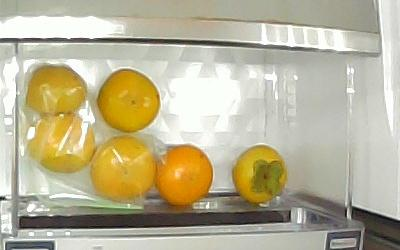persimmon: (97, 68, 164, 134), (154, 143, 213, 205), (233, 144, 288, 206)
persimmon_vinyl: (92, 135, 155, 202), (28, 114, 95, 175), (25, 65, 88, 115)
